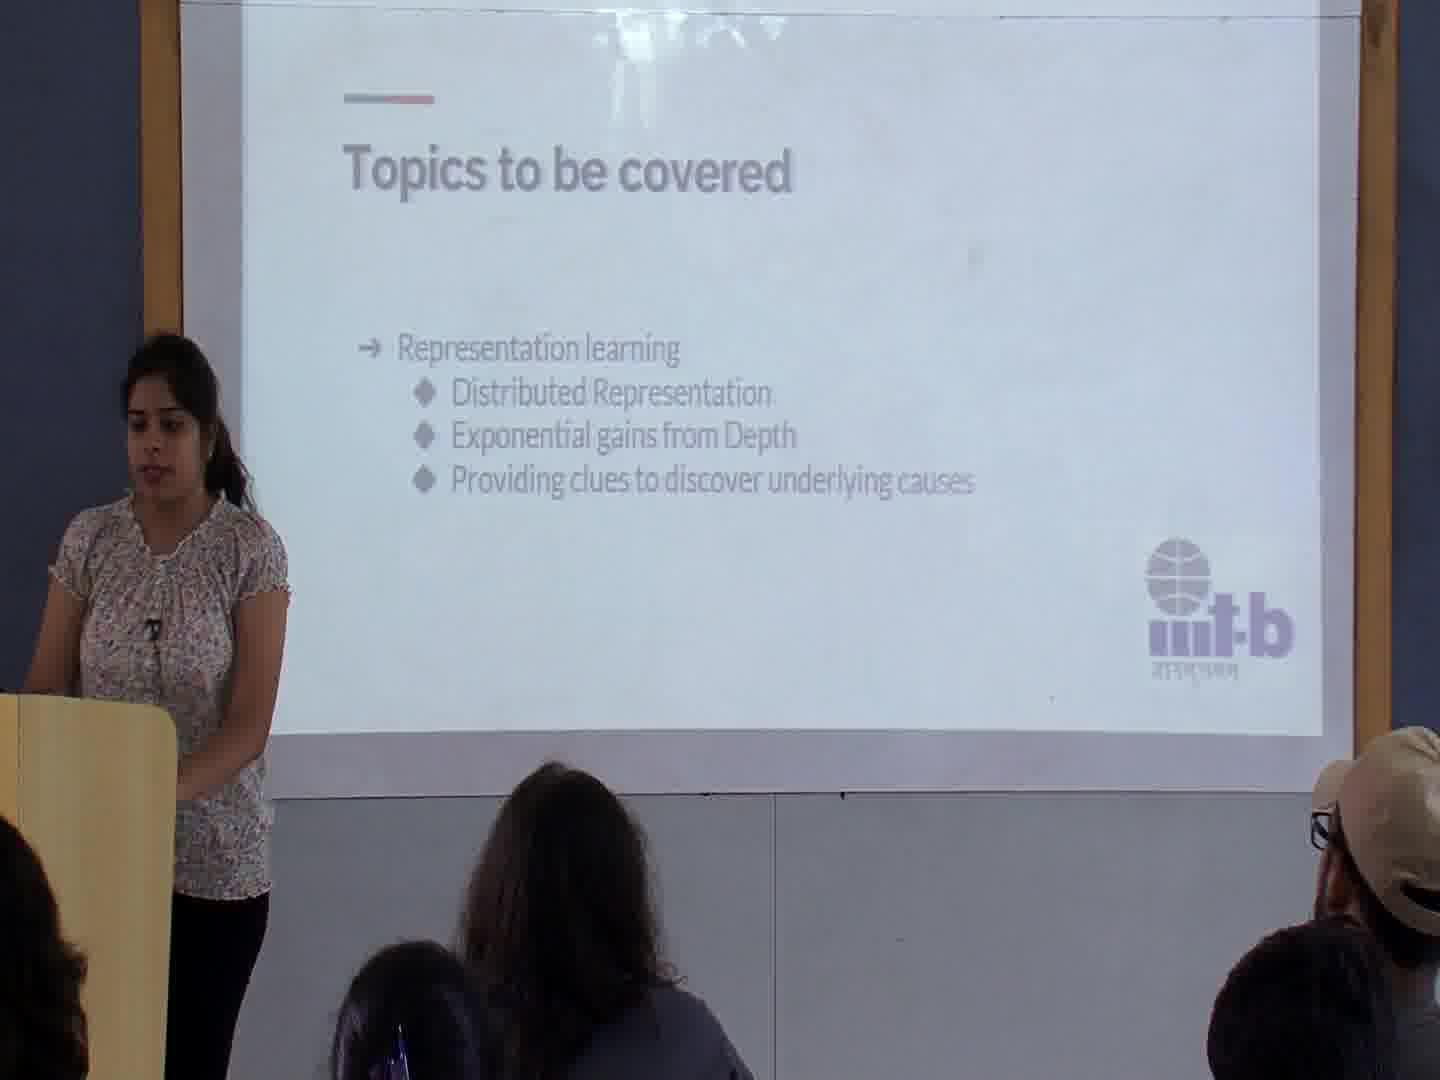slide: (242, 3, 1323, 736)
